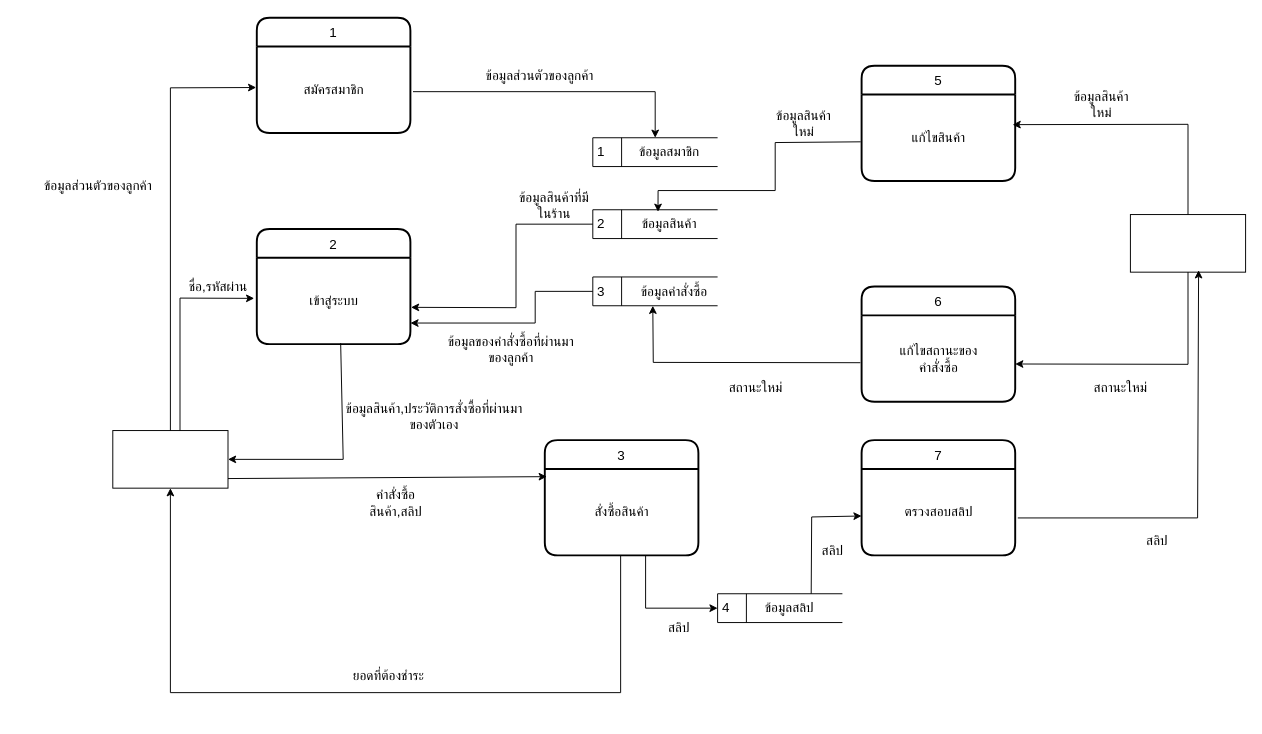
Image size: 1262x734. Some labels were removed from this diagram. The centre of each missing label's shape, as x and y in pixels:
ผู้ดูแลระบบ: the point at 1187,243
ลูกค้า: the point at 170,459
